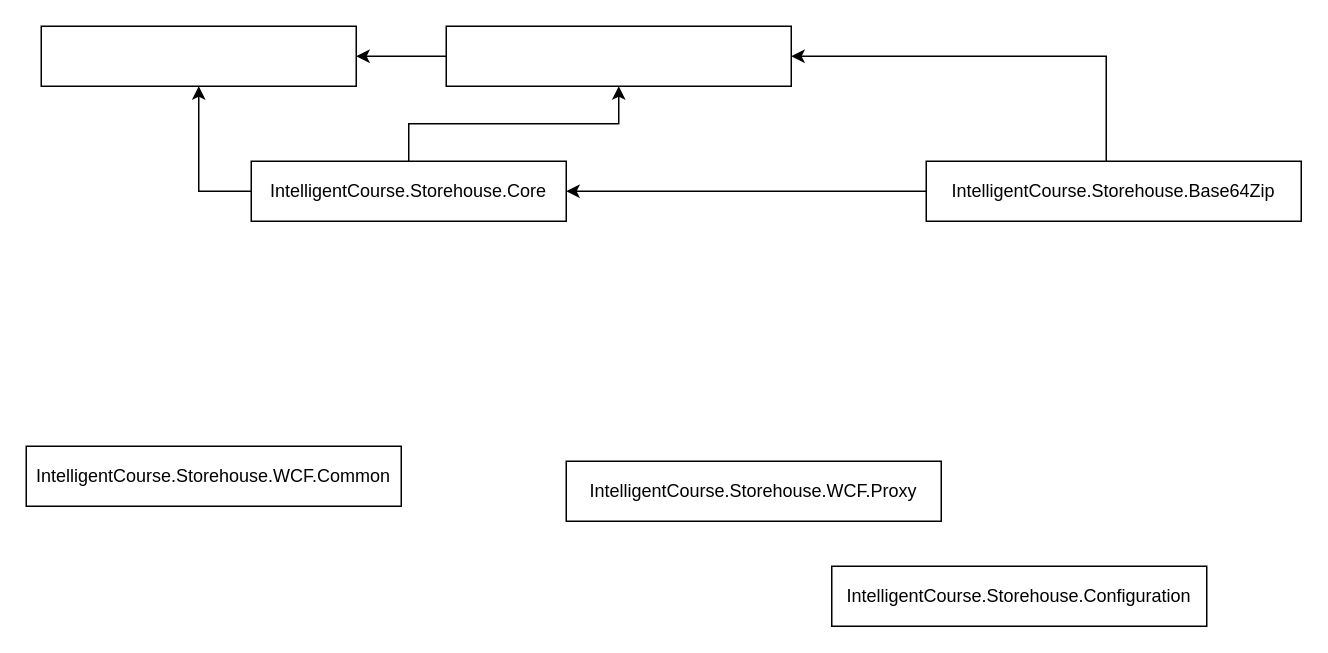
Some shapes in this 1328 by 653 pixel diagram are drawn without their labels. Here are the shapes that lost their labels. From the top down, the centre of each, then its label:
At (198,55): "IntelligentCourse.Storehouse.Model".
At (618,55): "IntelligentCourse.Storehouse.Common".
